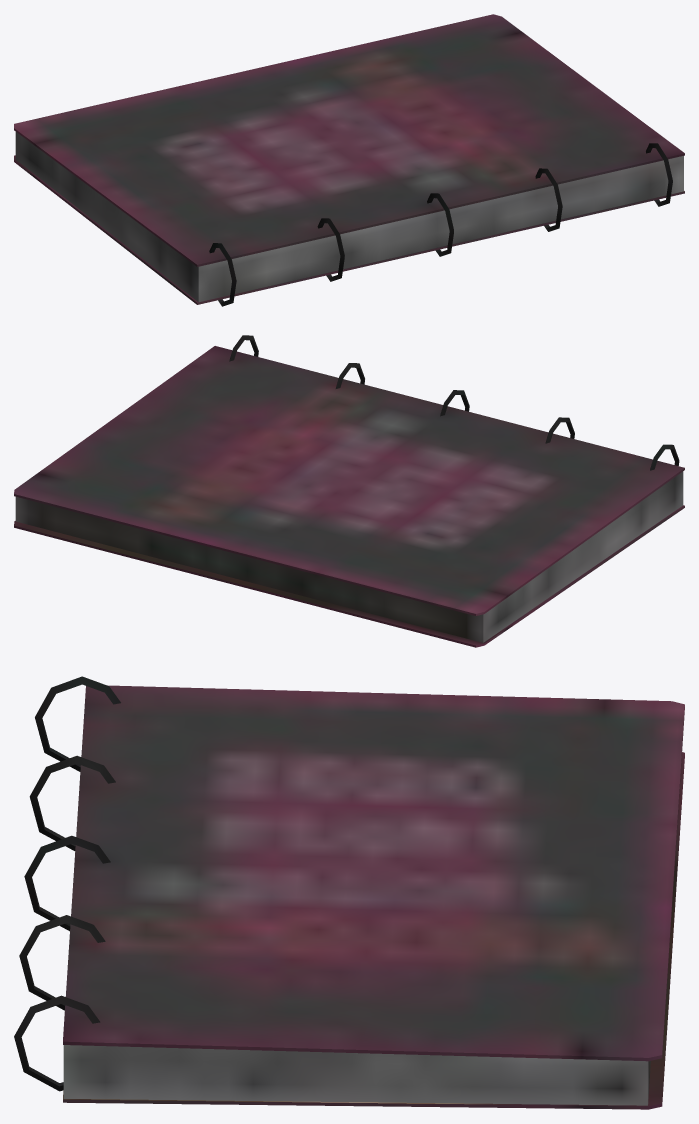
The model's file is Book02.FBX.
3 renders of one model, top to bottom at view 1: azimuth 30°, elevation 25°; view 2: azimuth 150°, elevation 25°; view 3: azimuth 270°, elevation 25°, orthographic. The views are drawn at different scales.
Parts seen in each view (by area): view 1: Book02; view 2: Book02; view 3: Book02.
Part boxes in pixels (left/top/right/bottom): Book02: left=14, top=14, right=684, bottom=306; Book02: left=14, top=335, right=684, bottom=647; Book02: left=14, top=676, right=684, bottom=1109.
Bounding box in the file's own units: 24.3 × 2.99 × 18.95.
